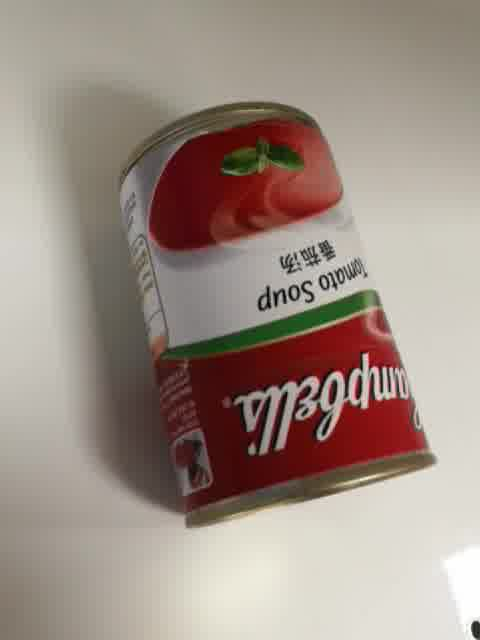tomatosoup: (112, 98, 439, 531)
